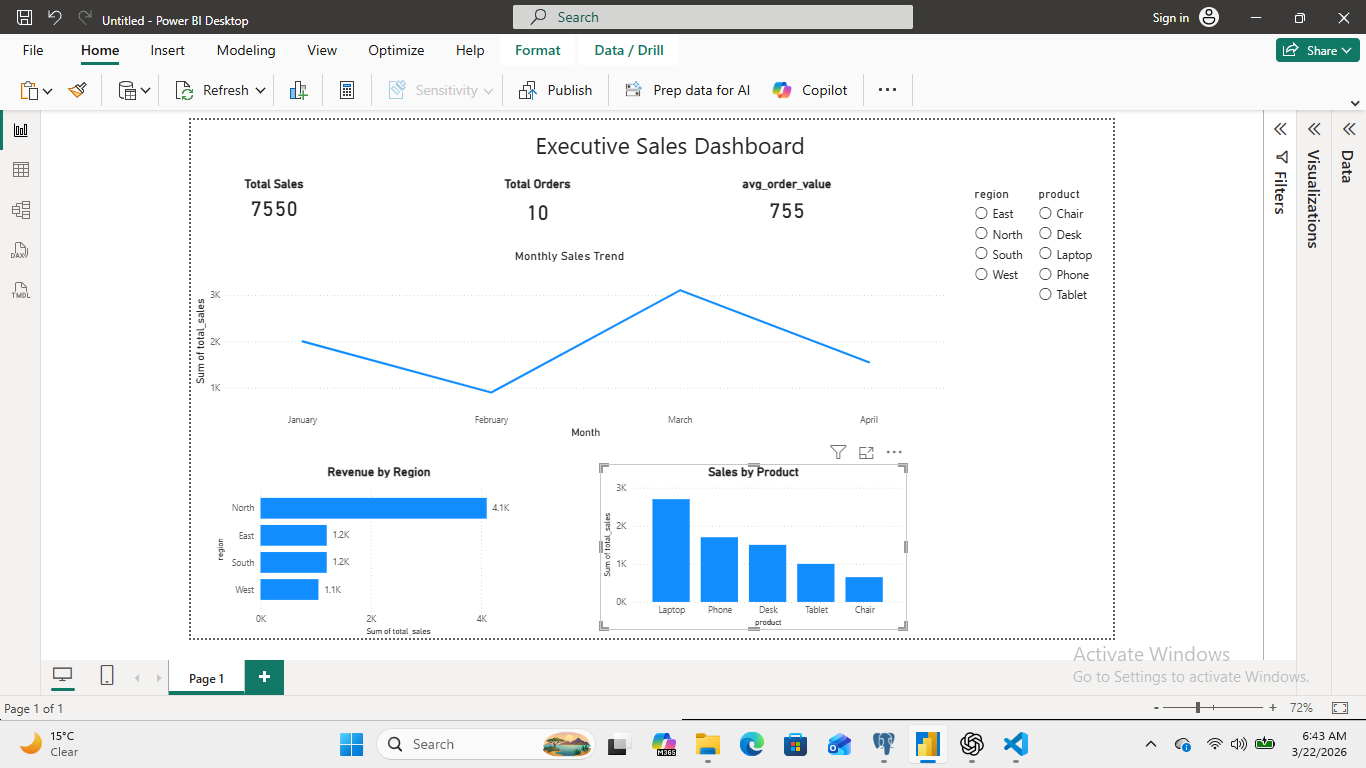

The dashboard page shown, as its layout file describes it:
{"tool":"powerbi","page":{"name":"Page 1","canvas":[1280,720],"ordinal":0},"visuals":[{"type":"lineChart","title":"                Monthly Sales Trend","fields":{"Y":["Sum(sales_dataset.total_sales)"],"Category":["sales_dataset.Date.Variation.Date Hierarchy.Month"]},"box":[0,177.8,1051.4,269.4],"z":0},{"type":"card","title":"Total Sales","fields":{"Values":["Sum(sales_dataset.total_sales)"]},"box":[30.6,77.8,169.4,69.4],"z":1000},{"type":"card","title":"Total Orders","fields":{"Values":["Sum(sales_dataset.total_orders)"]},"box":[400,77.8,162.5,79.2],"z":2000},{"type":"card","title":"avg_order_value","fields":{"Values":["Avg(sales_dataset.avg_order_value)"]},"box":[736.1,77.8,183.3,73.6],"z":3000},{"type":"clusteredBarChart","title":"Revenue by Region","fields":{"Category":["sales_dataset.region"],"Y":["Sum(sales_dataset.total_sales)"]},"box":[30.6,477.8,461.1,243.1],"z":4000},{"type":"clusteredColumnChart","title":"Sales by Product","fields":{"Y":["Sum(sales_dataset.total_sales)"],"Category":["sales_dataset.product"]},"box":[568.1,477.8,426.4,230.6],"z":5000},{"type":"listSlicer","fields":{"Values":["sales_dataset.region"]},"box":[1083.3,91.7,88.9,254.2],"z":6000},{"type":"listSlicer","fields":{"Values":["sales_dataset.product"]},"box":[1172.2,91.7,95.8,254.2],"z":7000},{"type":"textbox","box":[919,7,150,150],"z":8000},{"type":"textbox","box":[919,7,150,150],"z":9000},{"type":"textbox","box":[919,7,150,150],"z":10000},{"type":"textbox","box":[919,7,150,150],"z":11000},{"type":"textbox","box":[919,7,150,150],"z":12000},{"type":"textbox","box":[261.1,6.9,808.3,55.6],"z":13000}]}

Visuals, with their boxes on the page's 1280x720 design canvas (x1, y1, x2, y2). These are canvas units, not pixel positions in the 1366x768 screenshot, which may show the page scaled, cropped or inside an application window:
"                Monthly Sales Trend" lineChart: bbox(0, 178, 1051, 447)
"Total Sales" card: bbox(31, 78, 200, 147)
"Total Orders" card: bbox(400, 78, 562, 157)
"avg_order_value" card: bbox(736, 78, 919, 151)
"Revenue by Region" clusteredBarChart: bbox(31, 478, 492, 721)
"Sales by Product" clusteredColumnChart: bbox(568, 478, 994, 708)
listSlicer - sales_dataset.region: bbox(1083, 92, 1172, 346)
listSlicer - sales_dataset.product: bbox(1172, 92, 1268, 346)
textbox: bbox(919, 7, 1069, 157)
textbox: bbox(919, 7, 1069, 157)
textbox: bbox(919, 7, 1069, 157)
textbox: bbox(919, 7, 1069, 157)
textbox: bbox(919, 7, 1069, 157)
textbox: bbox(261, 7, 1069, 62)
